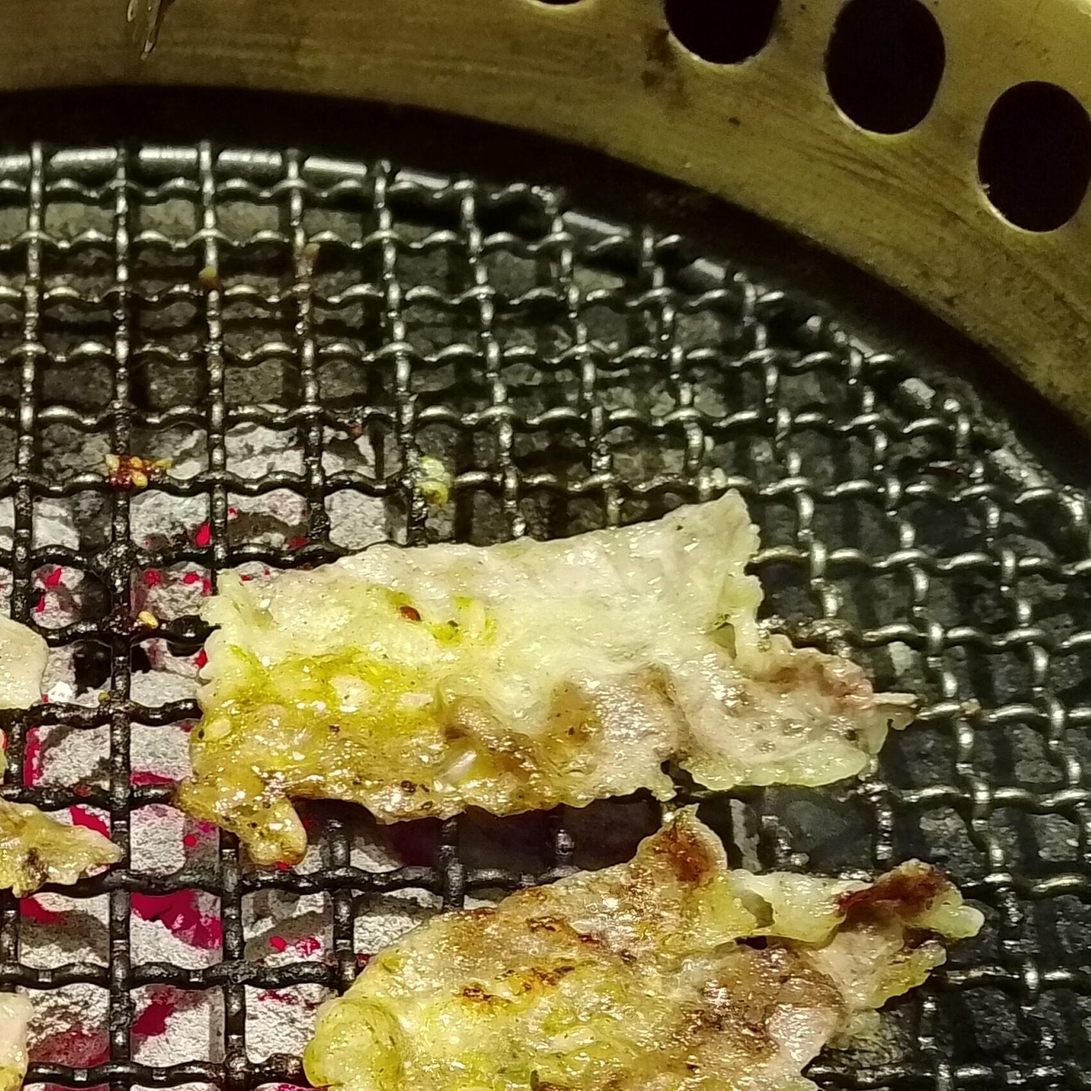Well-Cooked: (183, 494, 912, 863), (303, 808, 979, 1090)
